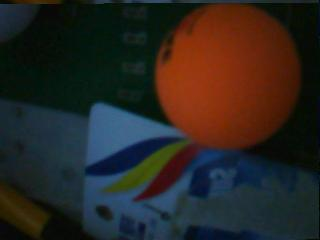oball: (156, 4, 299, 150)
